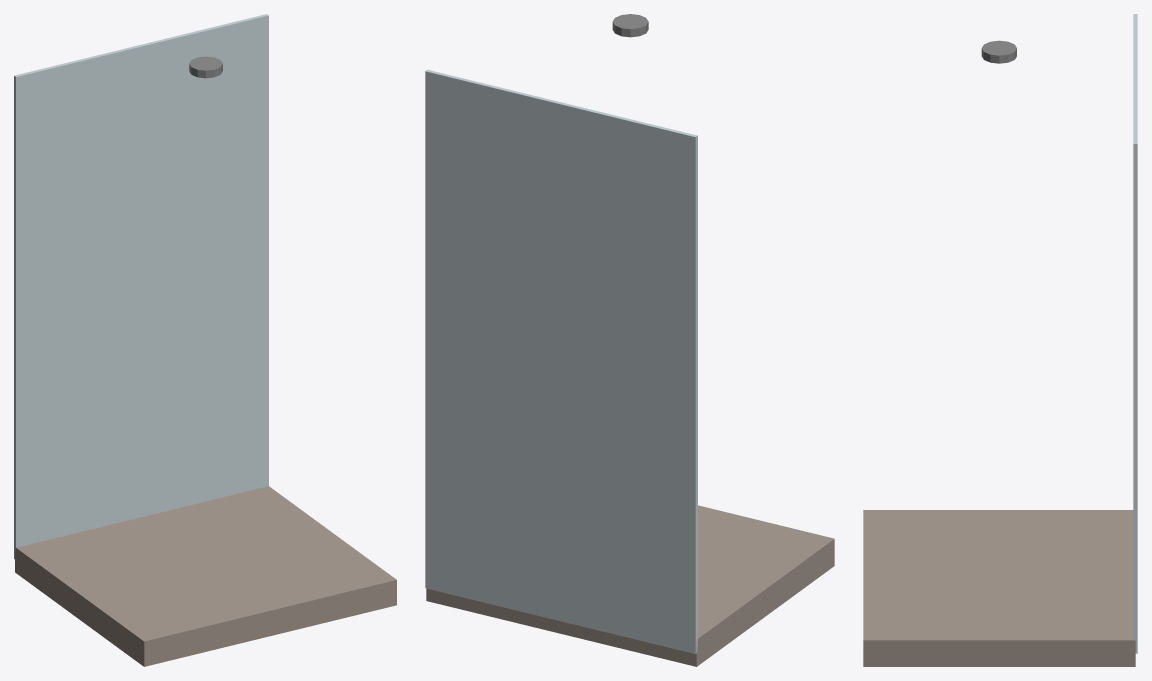
3 renders of one model, left to right at view 1: azimuth 30°, elevation 25°; view 2: azimuth 150°, elevation 25°; view 3: azimuth 270°, elevation 25°, orthographic. The views are drawn at different scales.
Parts seen in each view (by area): view 1: ducha_master; view 2: ducha_master; view 3: ducha_master.
Part boxes in pixels (left/top/right/bottom): ducha_master: left=14, top=14, right=396, bottom=666; ducha_master: left=425, top=14, right=834, bottom=666; ducha_master: left=863, top=14, right=1137, bottom=666.
Bounding box in the file's own units: 1.04 × 0.9275 × 2.07.
